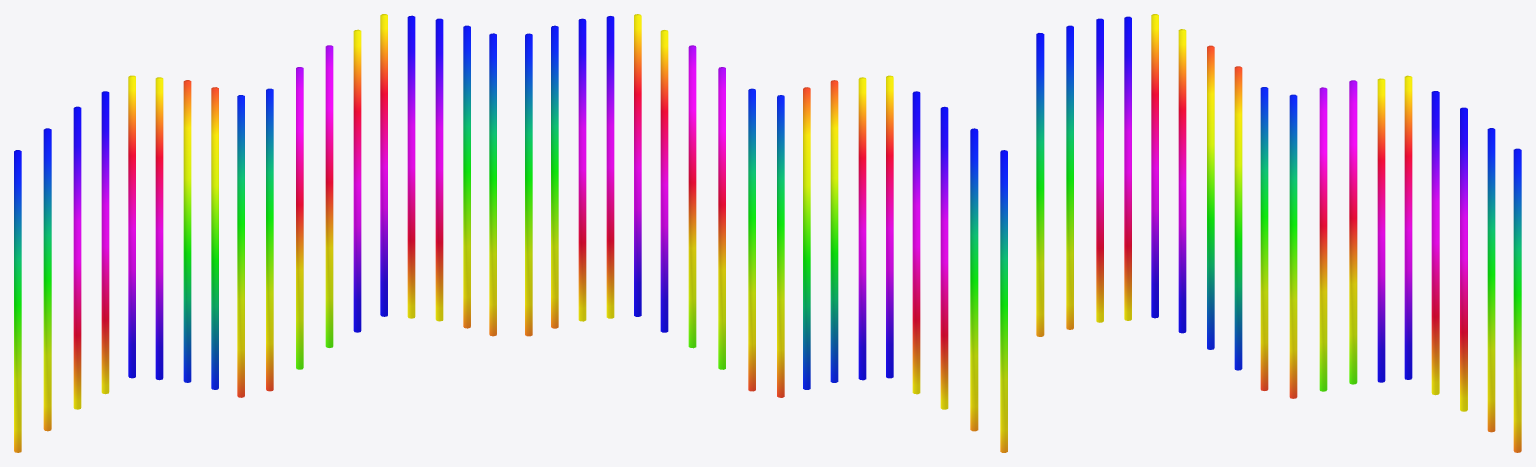
The model's file is LEDwave.glb.
The picture shows the model from 3 angles, left to right: view 1: azimuth 30°, elevation 25°; view 2: azimuth 150°, elevation 25°; view 3: azimuth 330°, elevation 25°; orthographic projection.
Visible parts, largest first — view 1: wave; view 2: wave; view 3: wave.
Part boxes in pixels (x1,y1,x2,y2): wave: (14, 14, 496, 452); wave: (525, 14, 1007, 452); wave: (1036, 14, 1521, 452).
Bounding box in the file's own units: 2.1 × 1.44 × 0.0285.
1 material, 1 textured.
